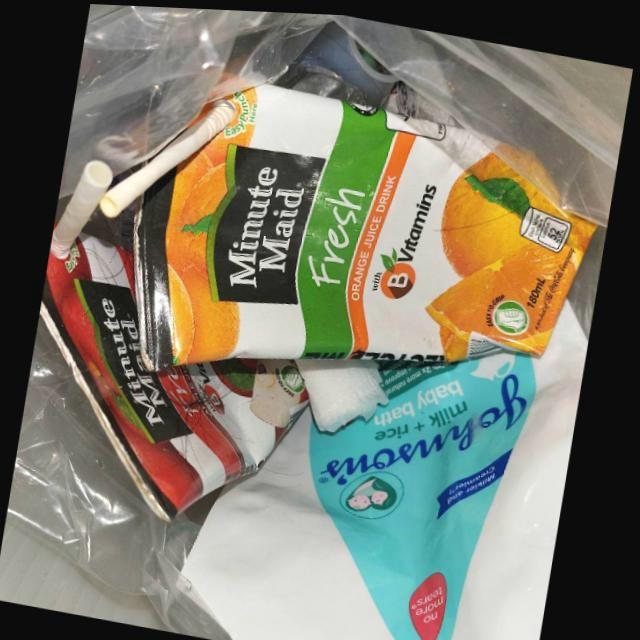paper: (297, 354, 391, 433)
plastic_sachet: (185, 295, 590, 640)
